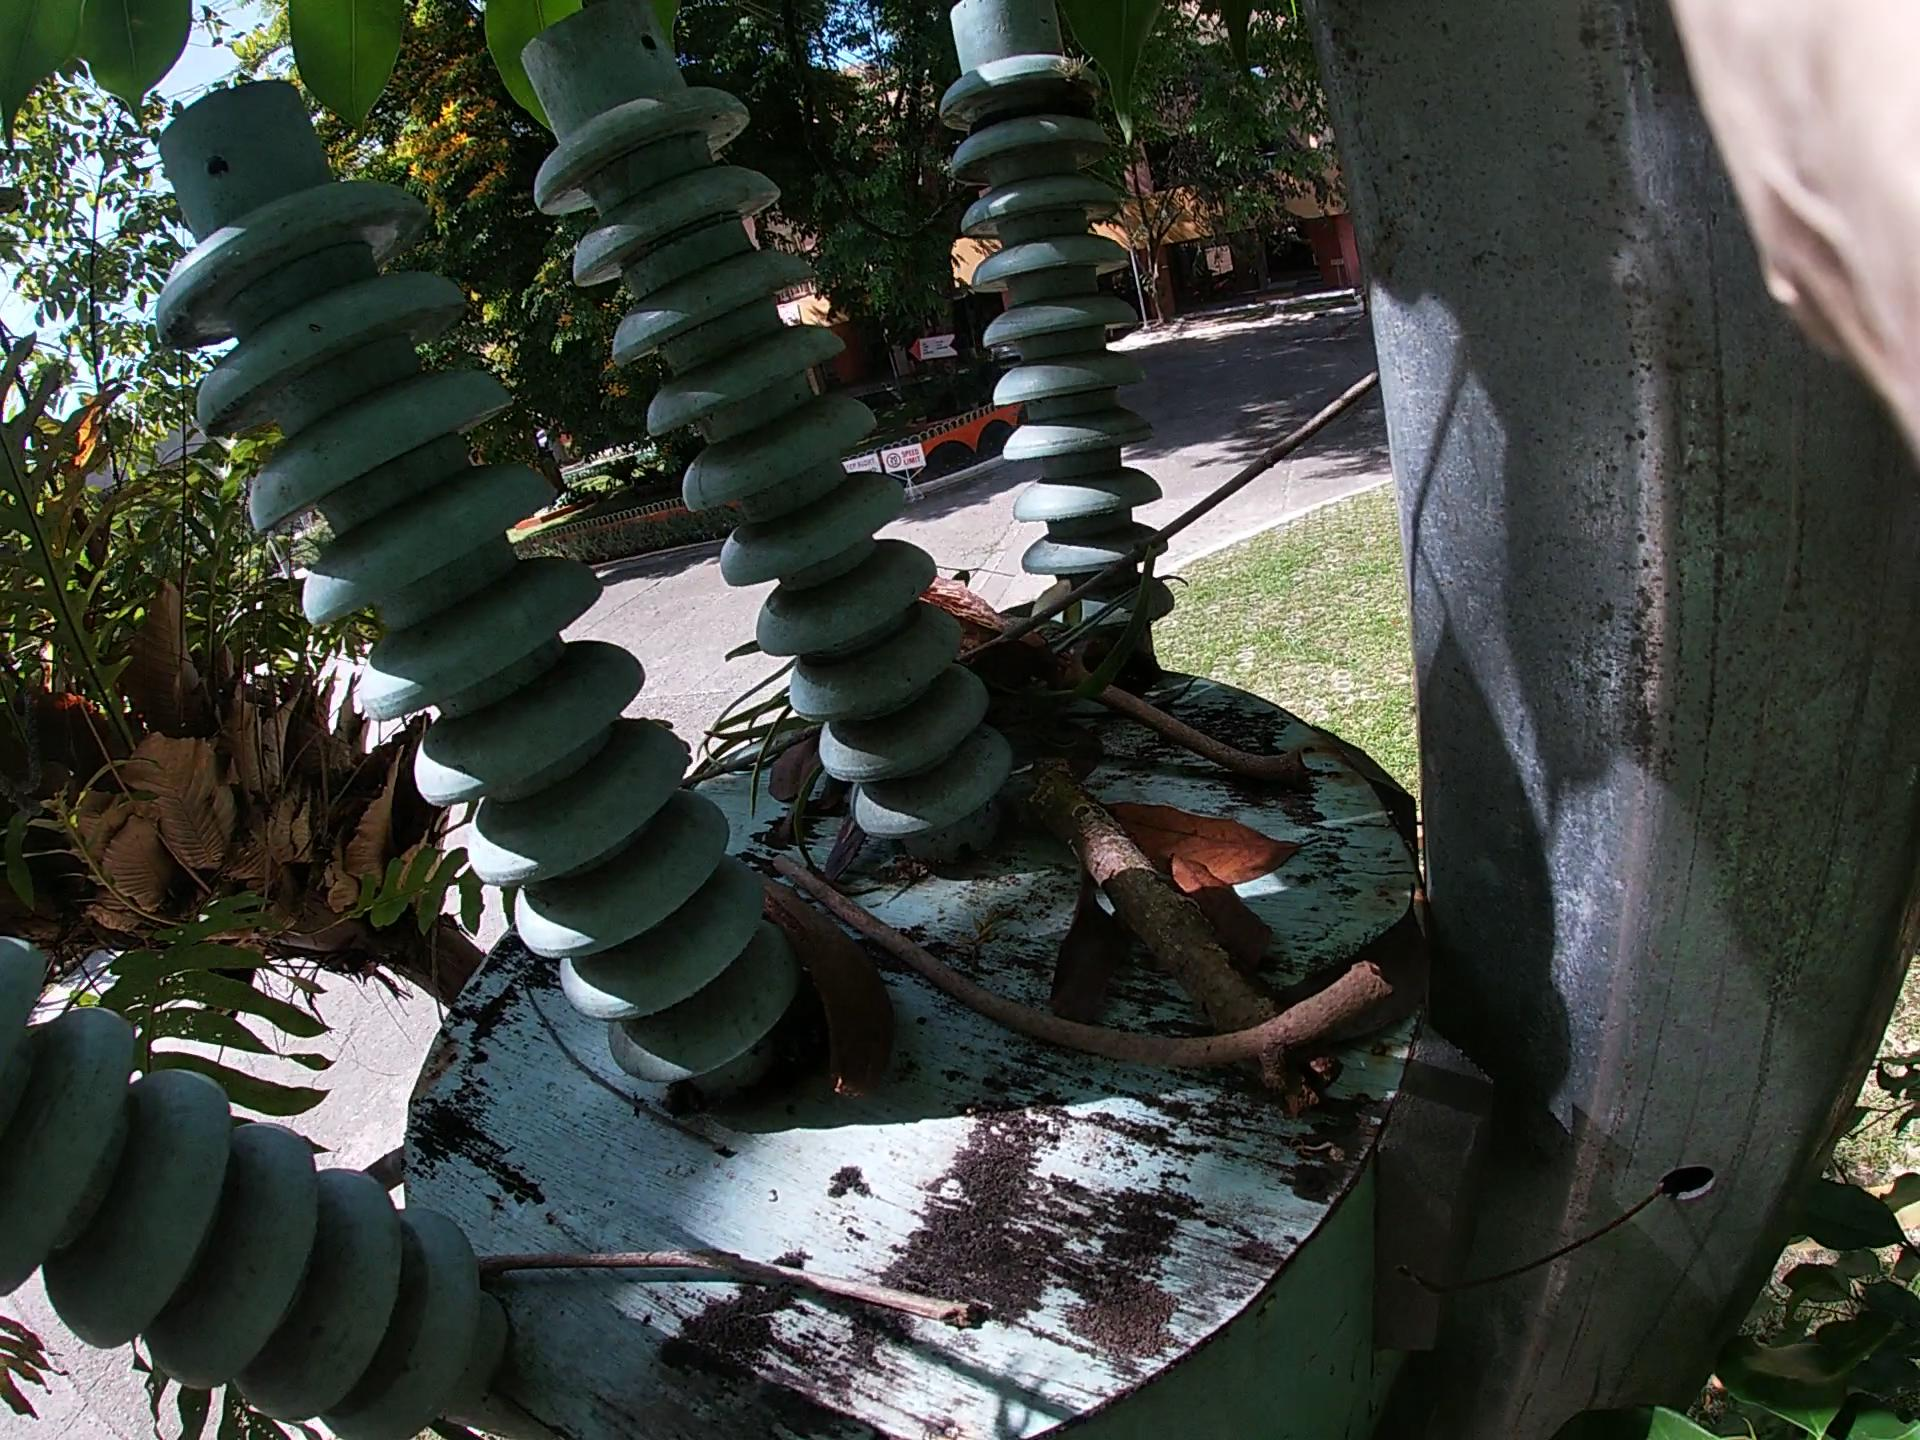branch with leaves: (872, 585, 1380, 1231)
leaf: (1072, 765, 1305, 1035)
tree branch: (689, 304, 1587, 784), (705, 768, 1314, 1124), (485, 1133, 1147, 1360), (1010, 644, 1385, 802)
